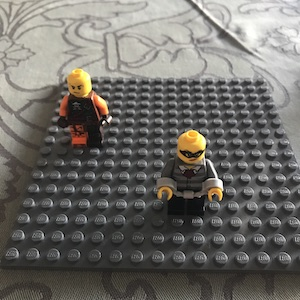Lego: (157, 130, 224, 215), (55, 68, 114, 147)
